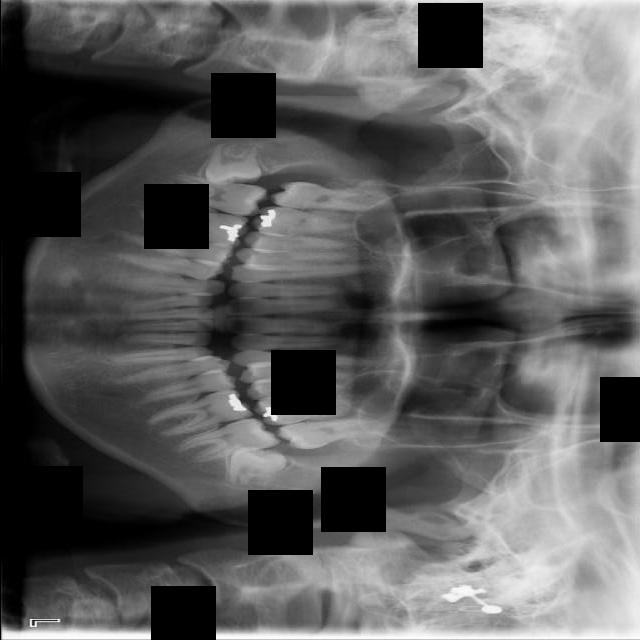52: (223, 404, 280, 464), (199, 202, 253, 258), (204, 379, 255, 433), (249, 202, 301, 240), (252, 394, 305, 428)
73: (16, 620, 26, 627)
BioHorizons Implant: (274, 415, 389, 452)
Biomet 3i Implant: (224, 442, 288, 493)
Blue Sky Bio Implant: (172, 412, 279, 468)
Caries: (269, 179, 383, 216)
Implant: (156, 169, 269, 220)
Keystone Dental Implant: (202, 140, 262, 188)
